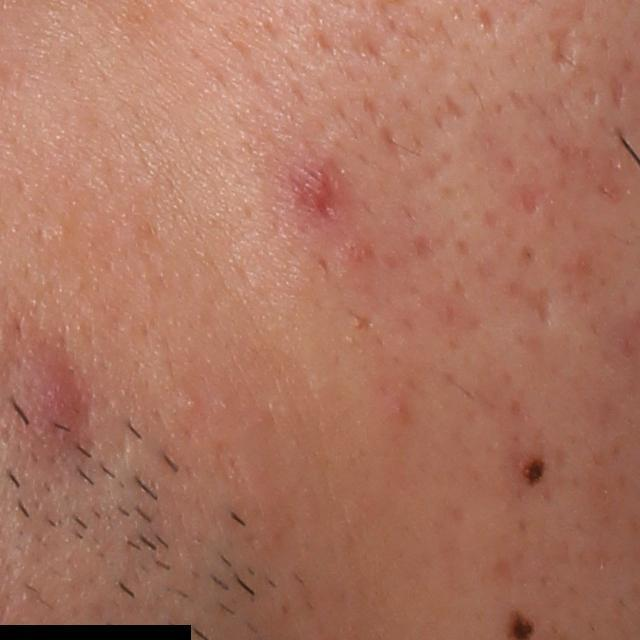atrophic_scar: (511, 276, 557, 330), (546, 23, 580, 68), (476, 7, 502, 45), (609, 73, 629, 116), (380, 121, 403, 158), (448, 92, 466, 122)
nevus: (520, 452, 547, 484)
papule: (7, 348, 86, 443), (303, 172, 337, 216)
